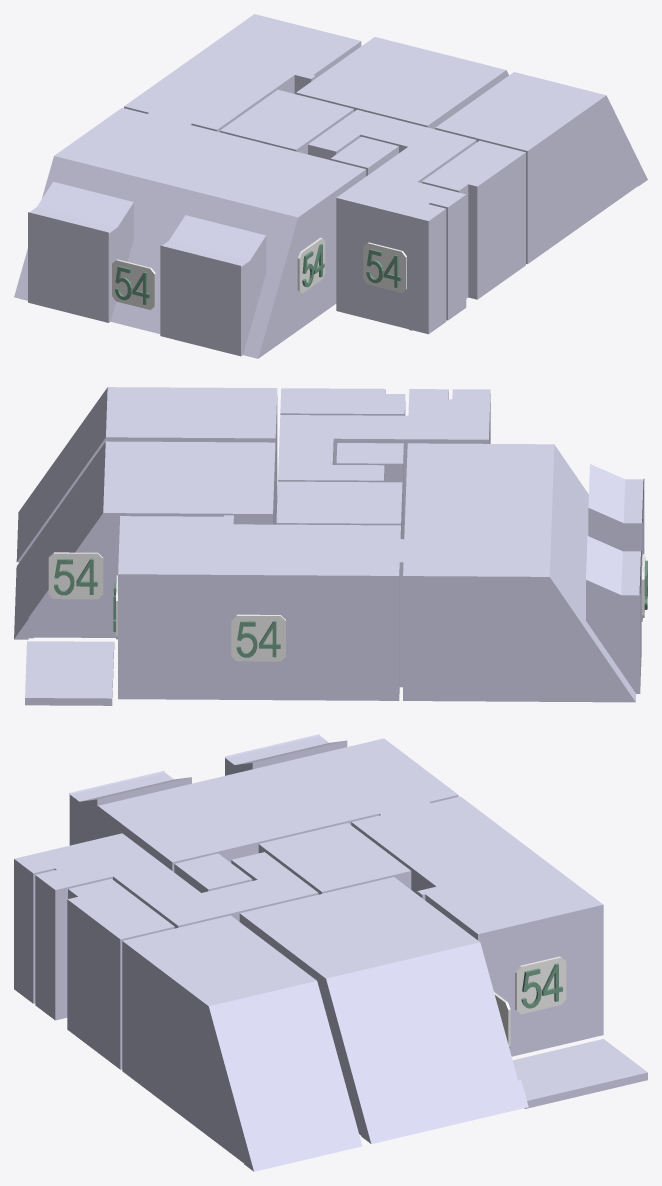
3 renders of one model, top to bottom at view 1: azimuth 30°, elevation 25°; view 2: azimuth 150°, elevation 25°; view 3: azimuth 270°, elevation 25°, orthographic. The views are drawn at different scales.
Visible parts, largest first — view 1: g_0, g_5, g_3, g_1, g_2, g_7, g_4, g_6, g_11, g_20, g_17; view 2: g_0, g_1, g_2, g_3, g_5, g_8, g_4, g_7, g_14, g_23, g_6; view 3: g_2, g_3, g_1, g_0, g_5, g_7, g_4, g_8, g_6, g_26.
Boxes of the visible parts, x1,y1,x2,y2 form: g_0: [14, 107, 366, 358]; g_5: [308, 109, 476, 334]; g_3: [435, 72, 647, 264]; g_1: [124, 14, 361, 132]; g_2: [296, 37, 508, 129]; g_7: [422, 140, 525, 299]; g_4: [220, 90, 353, 154]; g_6: [330, 136, 398, 176]; g_11: [363, 242, 406, 292]; g_20: [112, 259, 155, 309]; g_17: [297, 237, 325, 293]; g_0: [401, 443, 644, 702]; g_1: [118, 515, 402, 700]; g_2: [14, 441, 275, 639]; g_3: [16, 387, 277, 562]; g_5: [278, 389, 490, 538]; g_8: [25, 641, 114, 705]; g_4: [276, 481, 402, 538]; g_7: [280, 388, 405, 415]; g_14: [48, 552, 103, 599]; g_23: [231, 614, 285, 661]; g_6: [336, 443, 403, 539]; g_2: [239, 877, 528, 1144]; g_3: [122, 915, 362, 1171]; g_1: [351, 796, 603, 1056]; g_0: [69, 734, 458, 871]; g_5: [14, 833, 318, 1020]; g_7: [67, 879, 174, 1069]; g_4: [258, 823, 411, 894]; g_8: [513, 1039, 647, 1108]; g_6: [174, 853, 252, 892]; g_26: [515, 956, 566, 1014].
Bounding box in the file's own units: 14.04 × 2.71 × 11.21.
